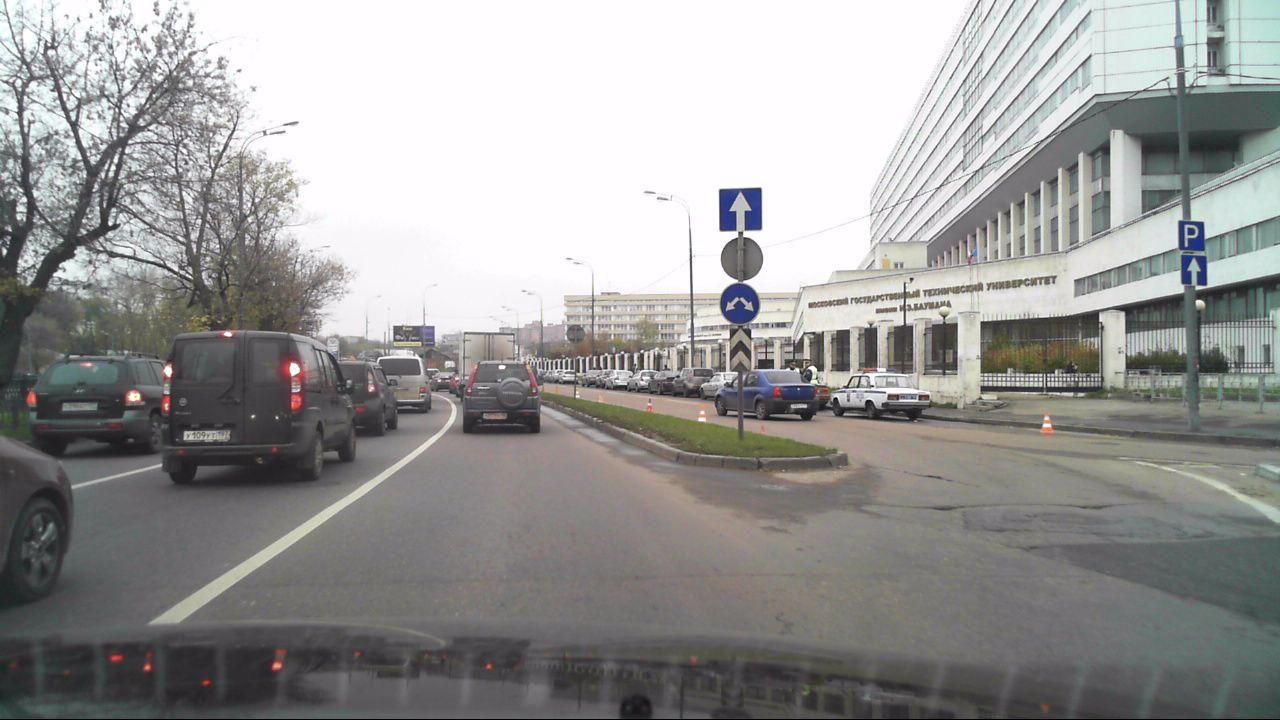4_2_3: (718, 282, 760, 325)
5_5: (711, 180, 763, 236), (1177, 254, 1211, 284)
6_4: (1171, 220, 1207, 254)
